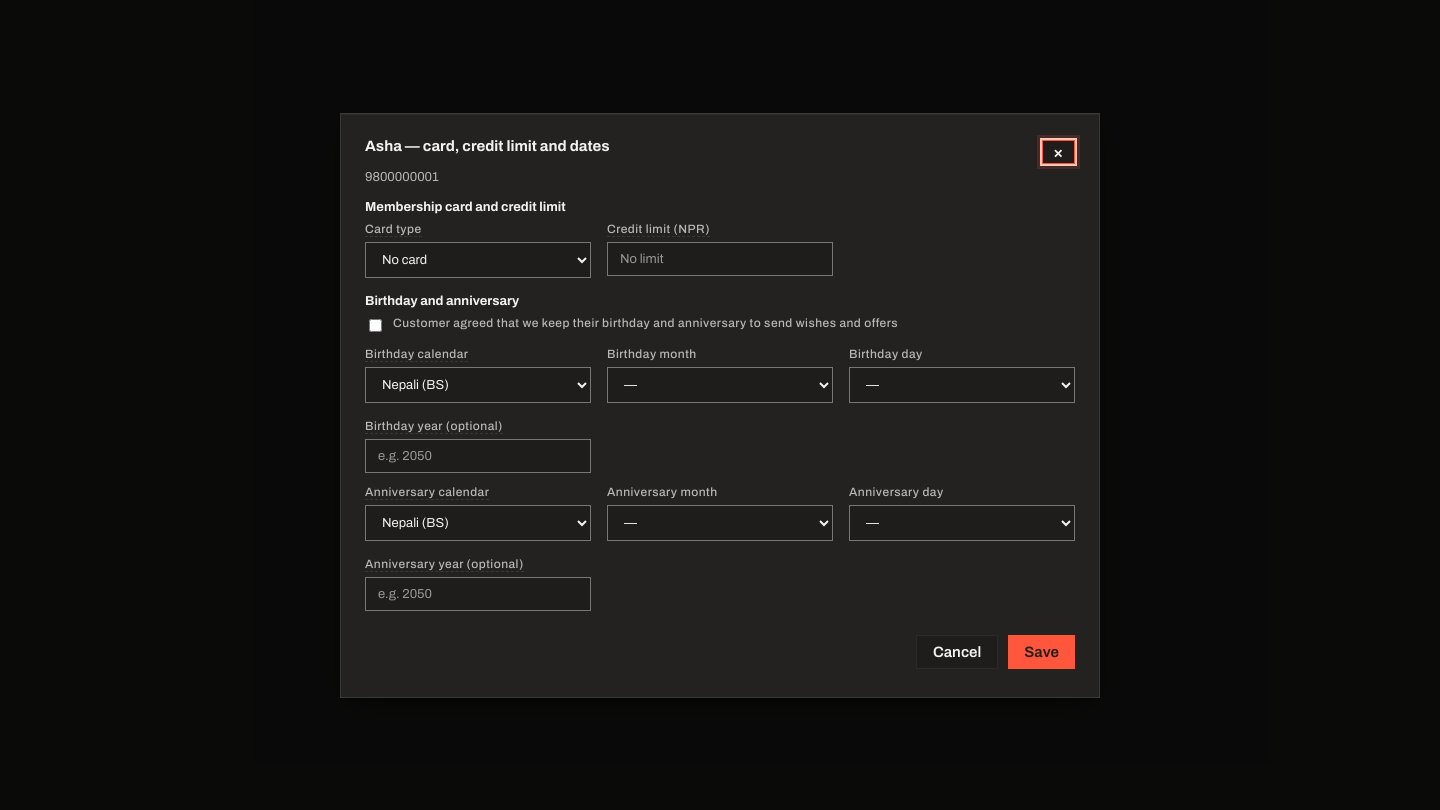
a card number another customer holds is named, and nothing closes
Select "Gold — 10% off, 12 months" in the dropdown labelled "Card type" at (478, 260), box [365,242,591,278]
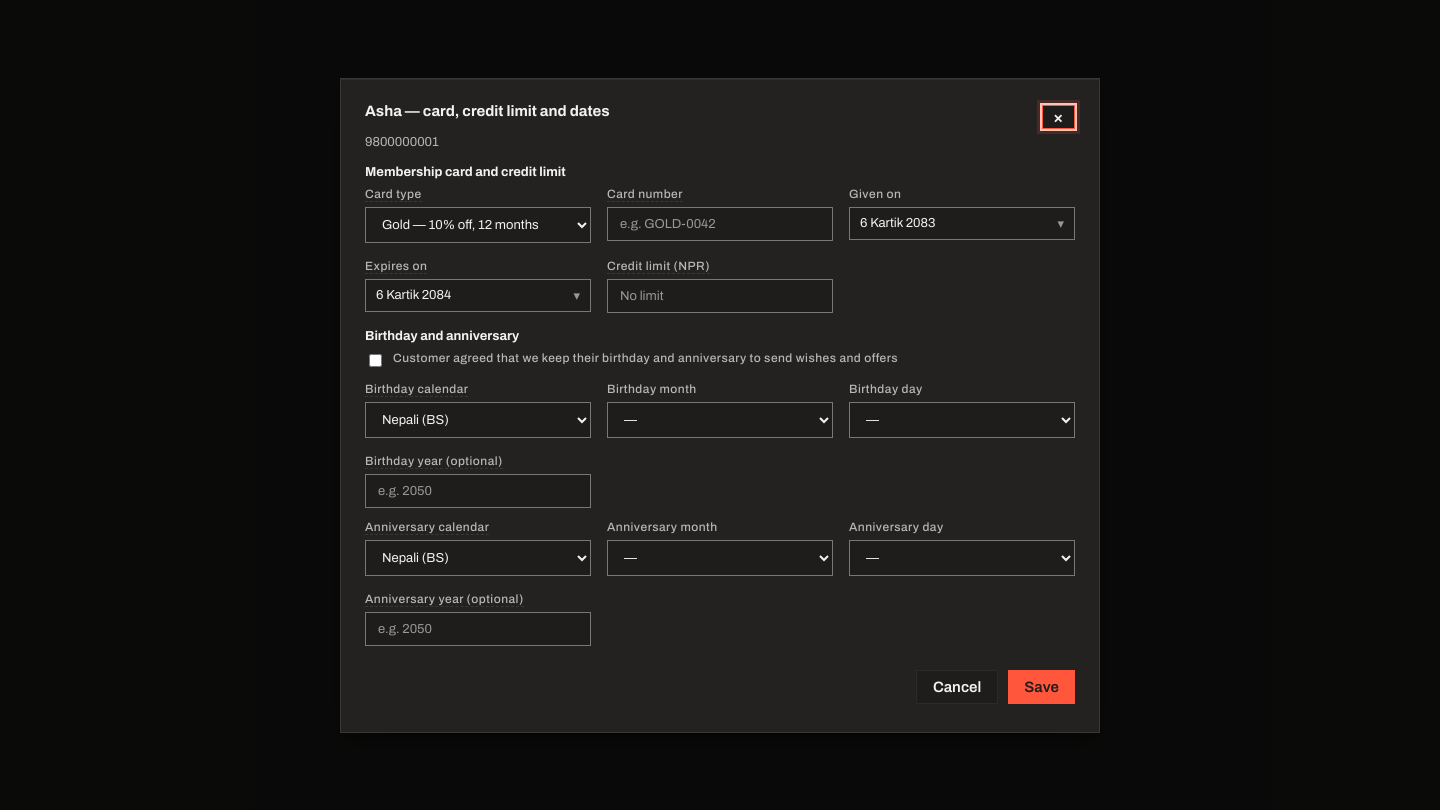
Type "gold-7" into the field labelled "Card number" at (720, 224), box [607,206,833,240]
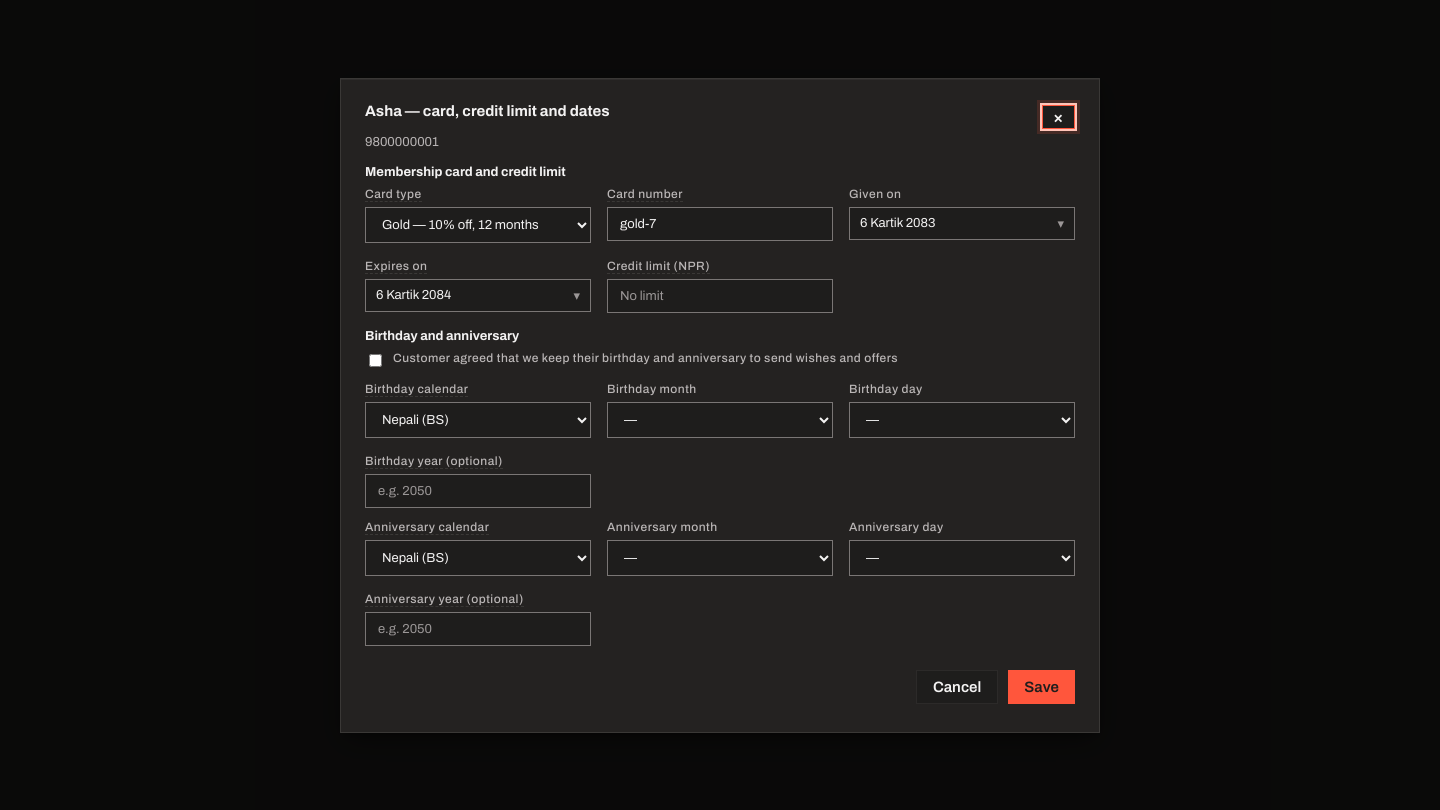
Click the button "Save" at (1042, 686), box [1008,670,1075,704]
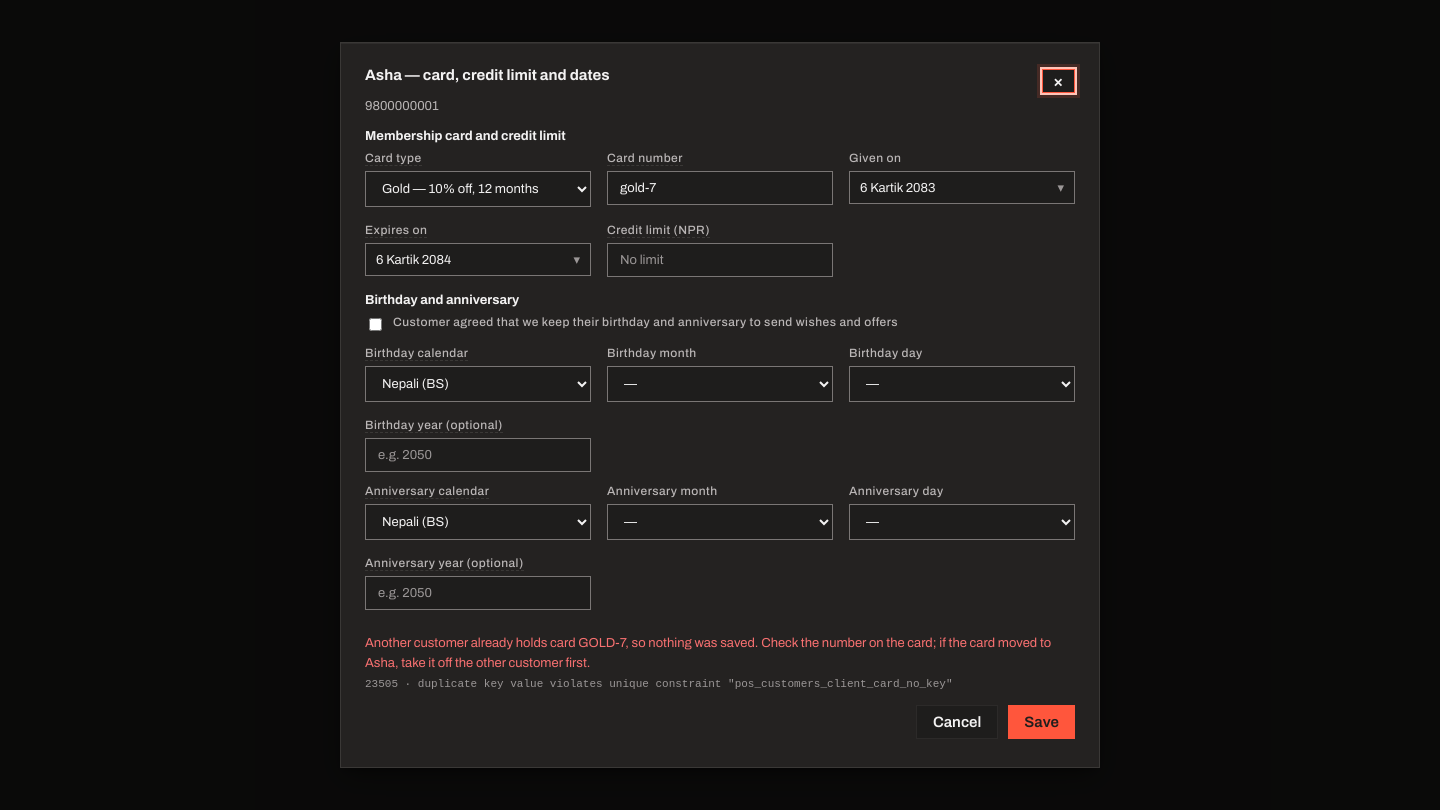
expect the text "Another customer already holds card GOLD-7, so nothing was saved." is shown: met, box [365,636,1051,670]
